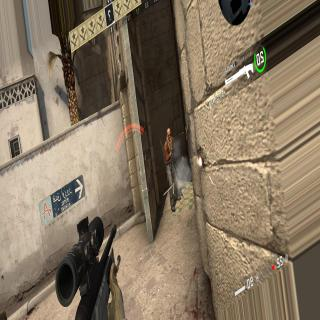T-Body: (164, 128, 182, 211)
T-Head: (166, 128, 172, 140)
